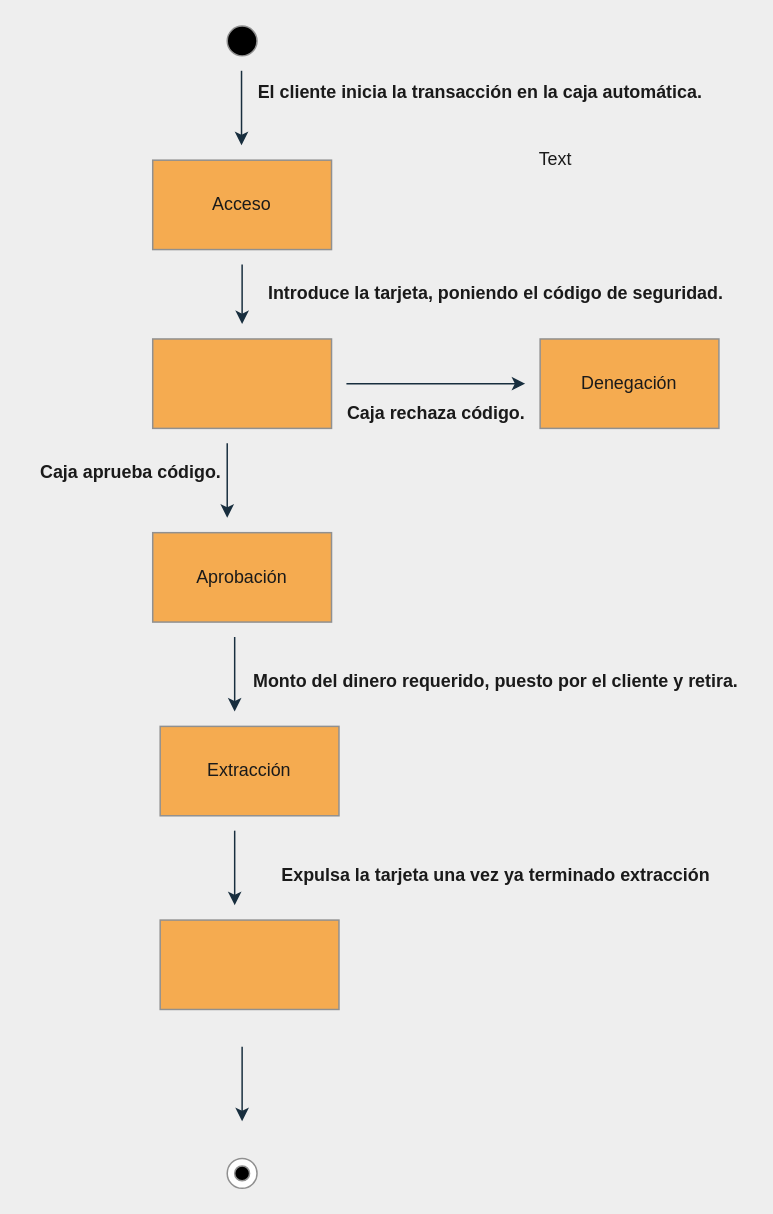
Some shapes in this 773 by 1214 pixel diagram are drawn without their labels. Each missing label, with the centre of its shape:
"Expulción" goes at pixel 249 964.
"Iniciación" goes at pixel 241 382.
